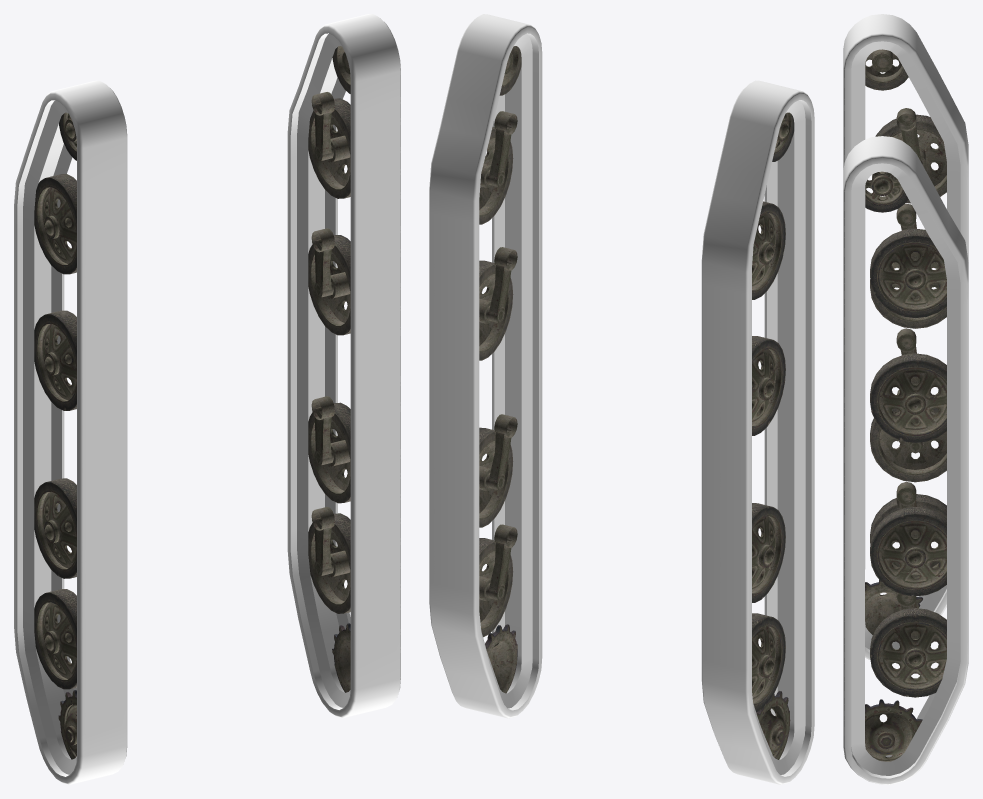
File: Chassis.glb
3 renders of one model, left to right at view 1: azimuth 30°, elevation 25°; view 2: azimuth 150°, elevation 25°; view 3: azimuth 270°, elevation 25°, orthographic. The views are drawn at different scales.
Parts seen in each view (by area): view 1: set_1_group_0, set_0_group_0, set_2_group_0, set_3_group_0; view 2: set_1_group_0, set_0_group_0, set_2_group_0, set_3_group_0; view 3: set_0_group_0, set_2_group_0, set_3_group_0, set_1_group_0.
Boxes of the visible parts, bbox=[...] form: set_1_group_0: bbox=[14, 80, 127, 784]; set_0_group_0: bbox=[287, 14, 400, 718]; set_2_group_0: bbox=[308, 46, 350, 692]; set_3_group_0: bbox=[34, 112, 76, 759]; set_1_group_0: bbox=[701, 80, 814, 784]; set_0_group_0: bbox=[429, 14, 542, 718]; set_2_group_0: bbox=[479, 46, 521, 693]; set_3_group_0: bbox=[752, 112, 794, 759]; set_0_group_0: bbox=[843, 136, 968, 784]; set_2_group_0: bbox=[865, 171, 946, 761]; set_3_group_0: bbox=[865, 49, 946, 634]; set_1_group_0: bbox=[843, 14, 968, 659].
Bounding box in the file's own units: 2.04 × 4.19 × 0.7571.
4 materials, 2 textured.
